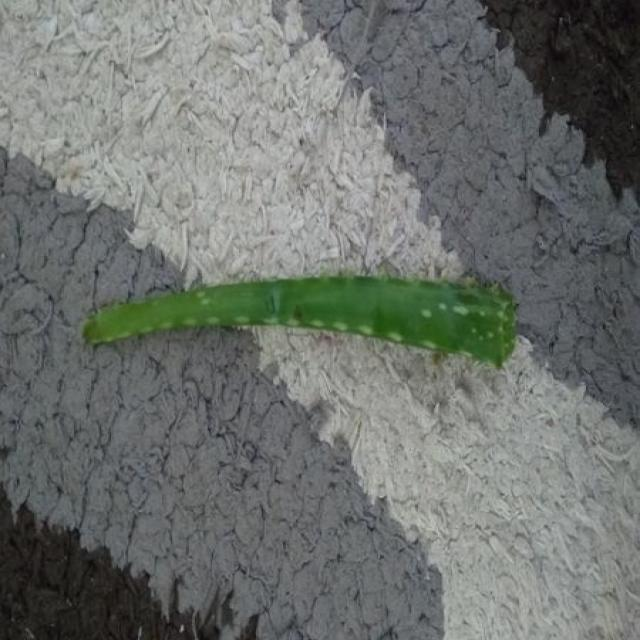alovera: (83, 276, 517, 367), (83, 276, 515, 366)
defectedalovera: (175, 278, 515, 348)
